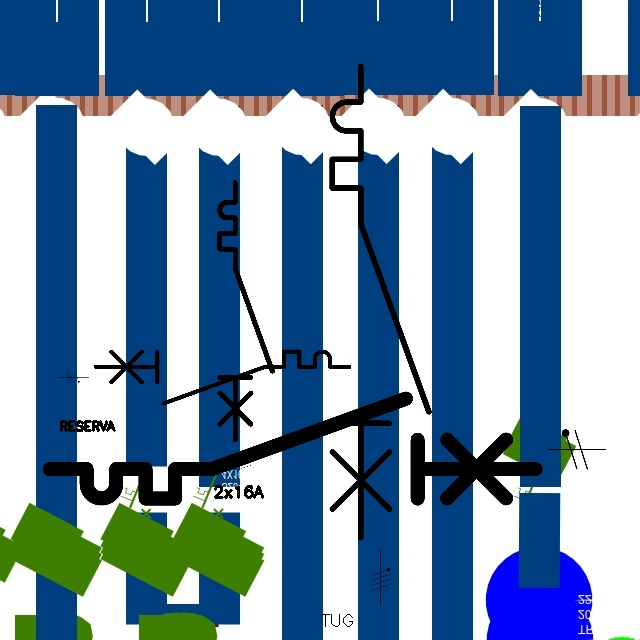interruptor_termomagnetico: (37, 386, 548, 511), (320, 54, 441, 549), (213, 176, 279, 446), (89, 345, 356, 410)
